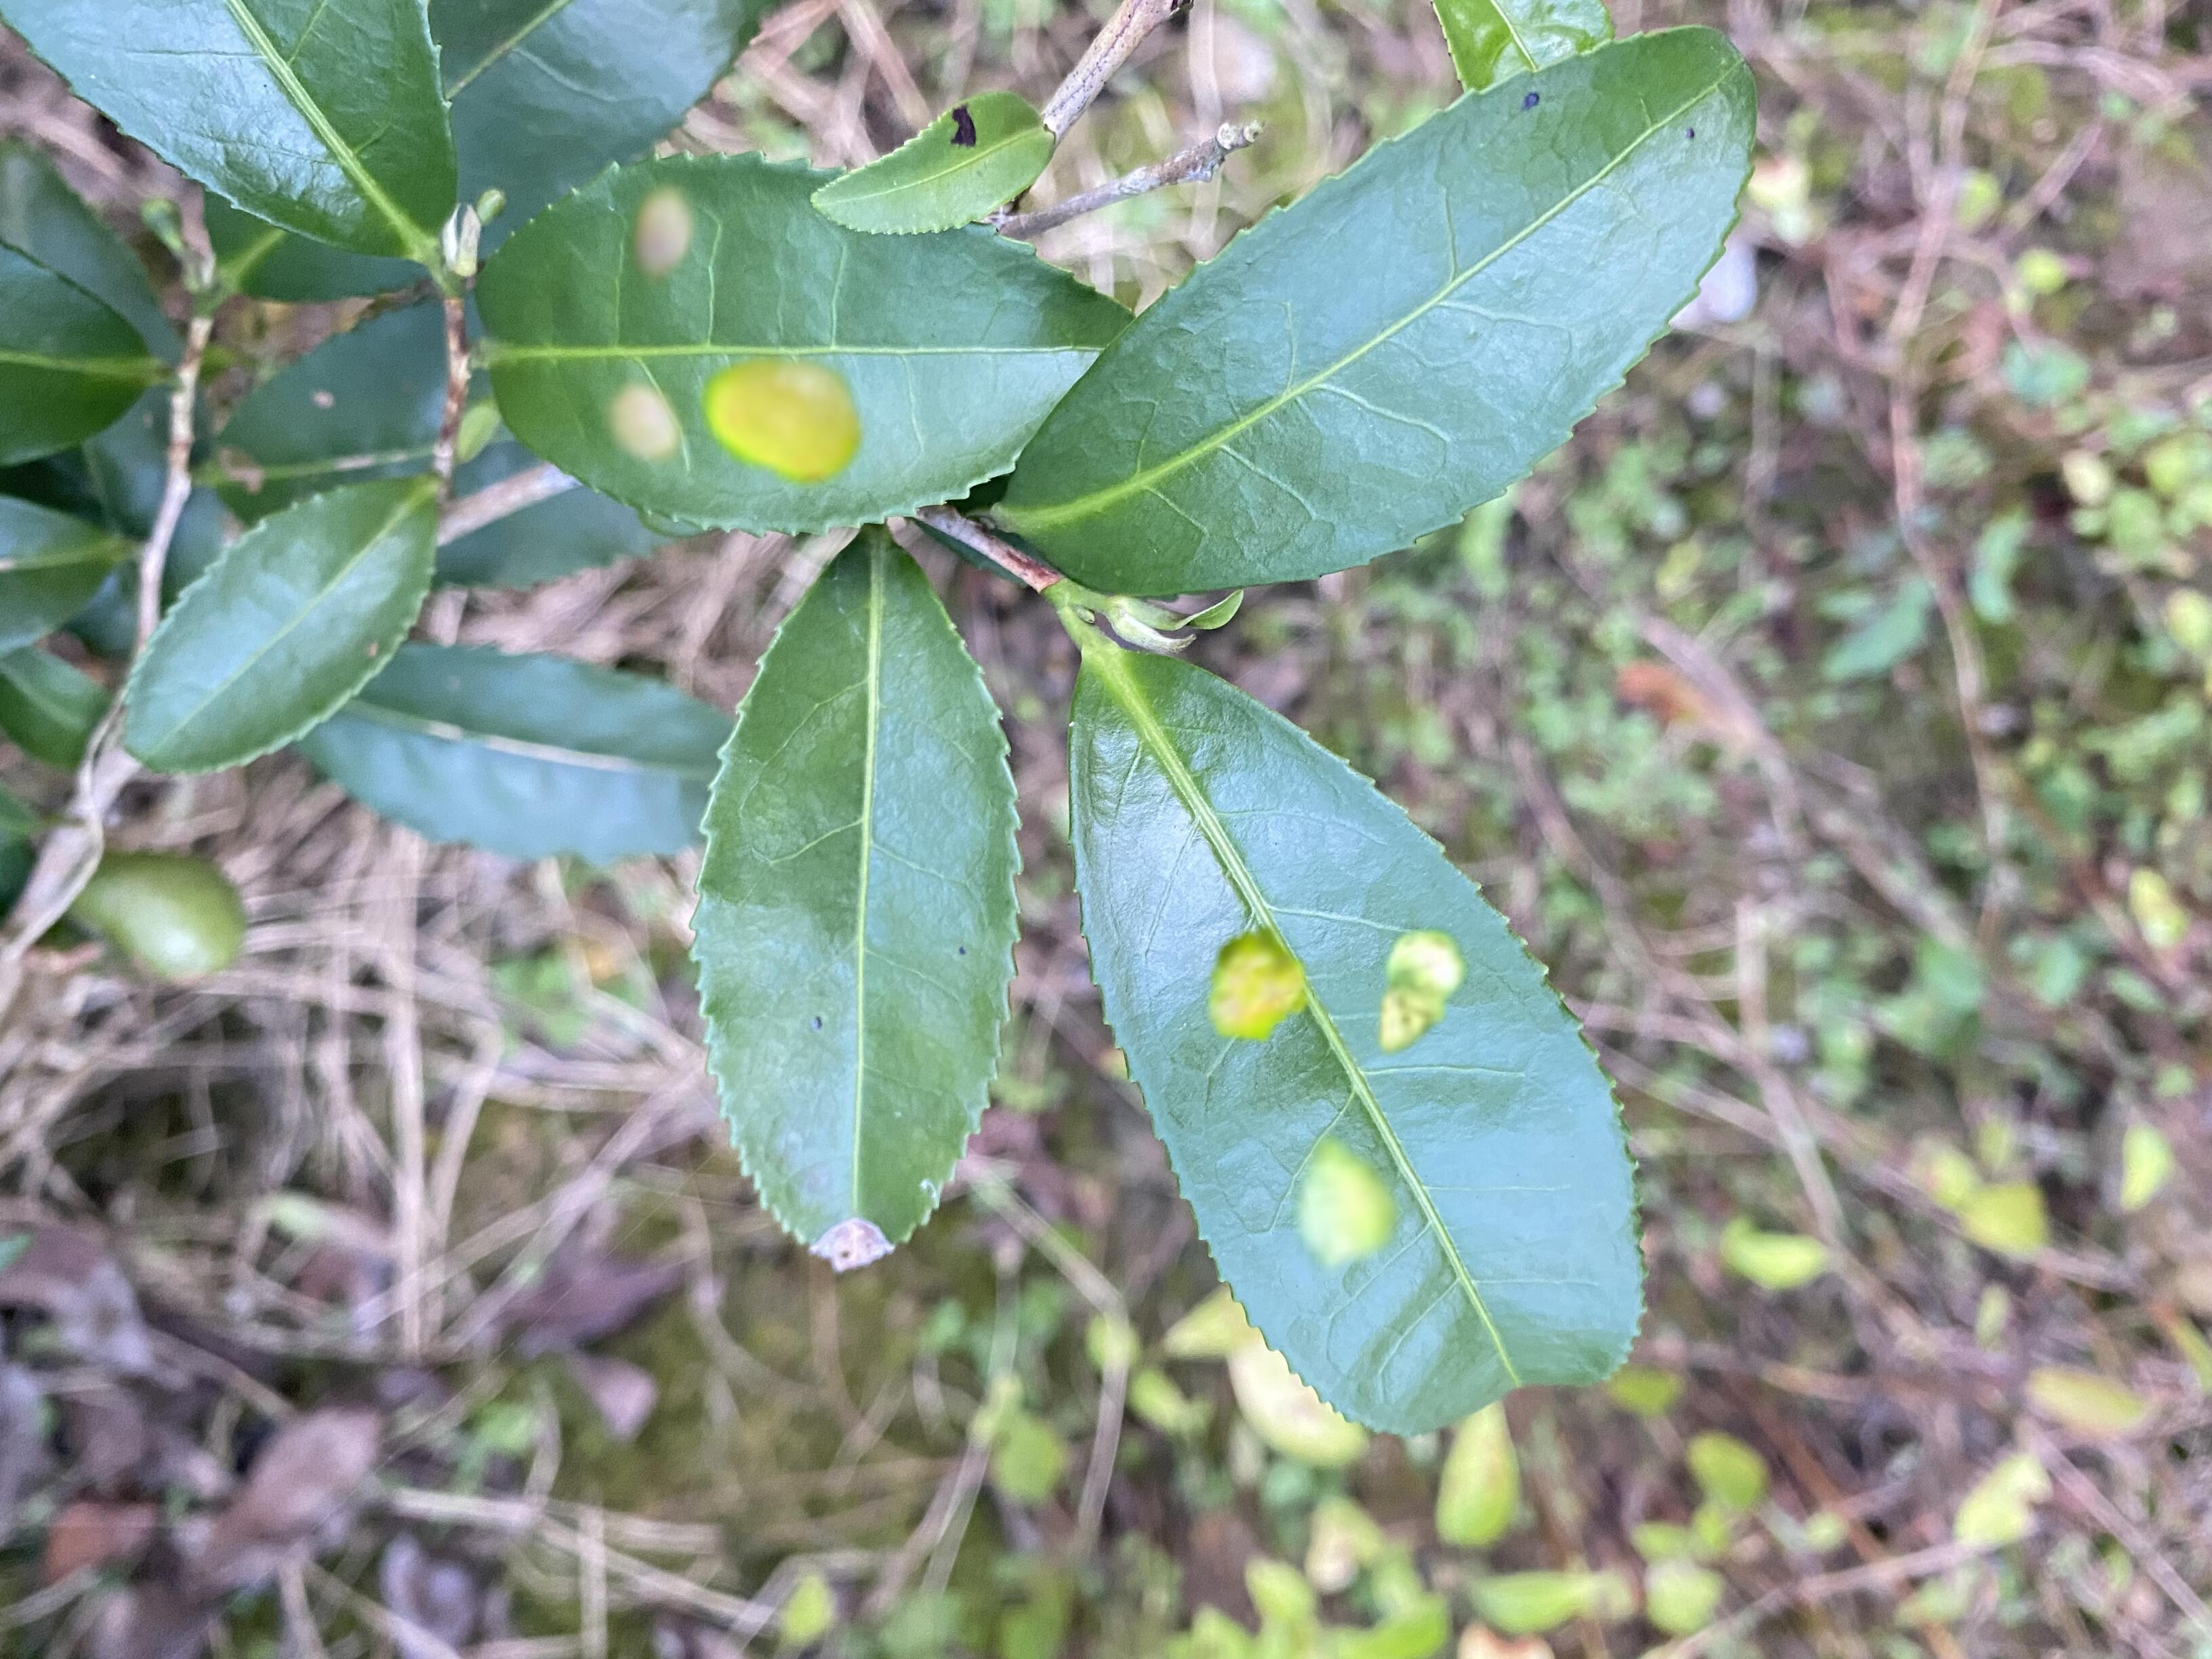chabing_high: (1069, 647, 1651, 1436), (474, 152, 1134, 538)
tanju_high: (810, 87, 1057, 232)
tanju_low: (995, 21, 1759, 601), (686, 537, 1021, 1272)
